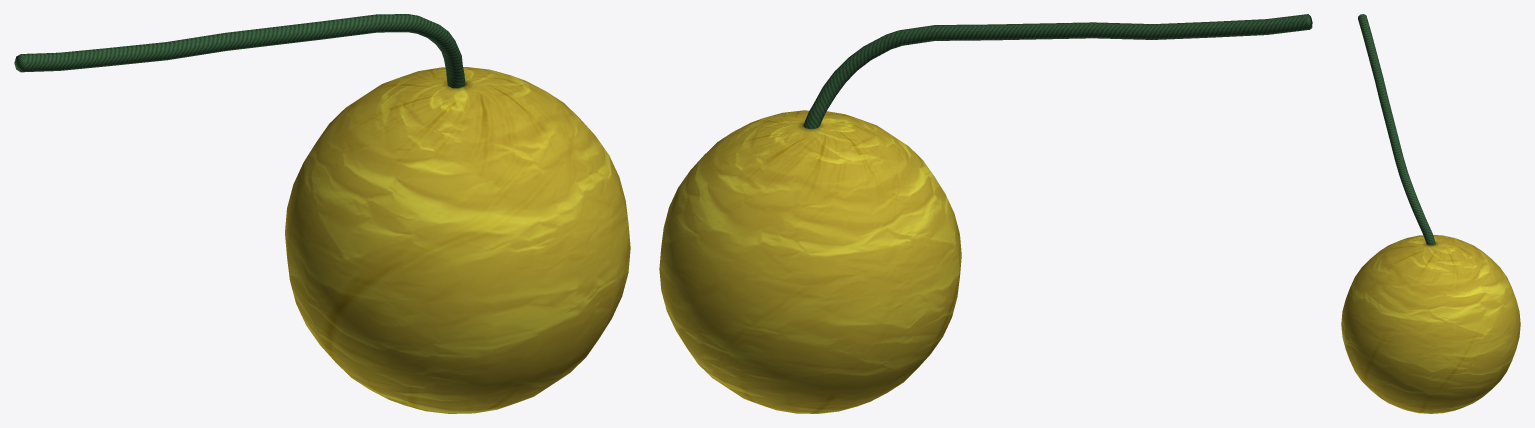
File: bomb5.fbx
3 views of the same model, side by side, from view 1: azimuth 30°, elevation 25°; view 2: azimuth 150°, elevation 25°; view 3: azimuth 270°, elevation 25° (orthographic). The views are drawn at different scales.
Visible parts, largest first — view 1: polySurface1, polySurface3; view 2: polySurface1, polySurface3; view 3: polySurface1, polySurface3.
Boxes of the visible parts, box(x1,y1,x2,y2) form: polySurface1: box(285, 67, 630, 413); polySurface3: box(14, 14, 464, 88); polySurface1: box(659, 110, 961, 413); polySurface3: box(804, 14, 1312, 129); polySurface1: box(1341, 235, 1520, 413); polySurface3: box(1358, 14, 1435, 245).
Bounding box in the file's own units: 17.45 × 13.05 × 8.
Materials: 1 (1 with a texture image).
